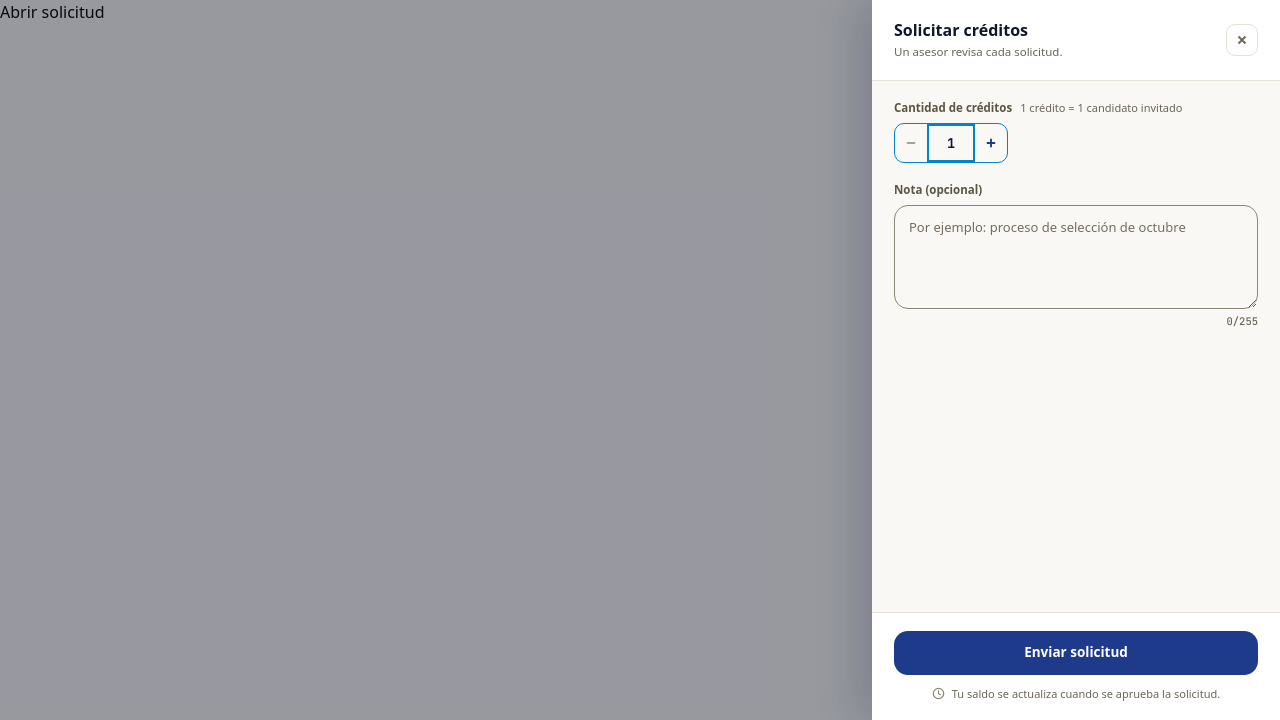
it: SolicitarCreditos · errores › un 422 sin errores de campo muestra el mensaje como aviso general
Step 1. Click the button "Enviar solicitud" → (1076, 652), box x1=894 y1=630 x2=1258 y2=674
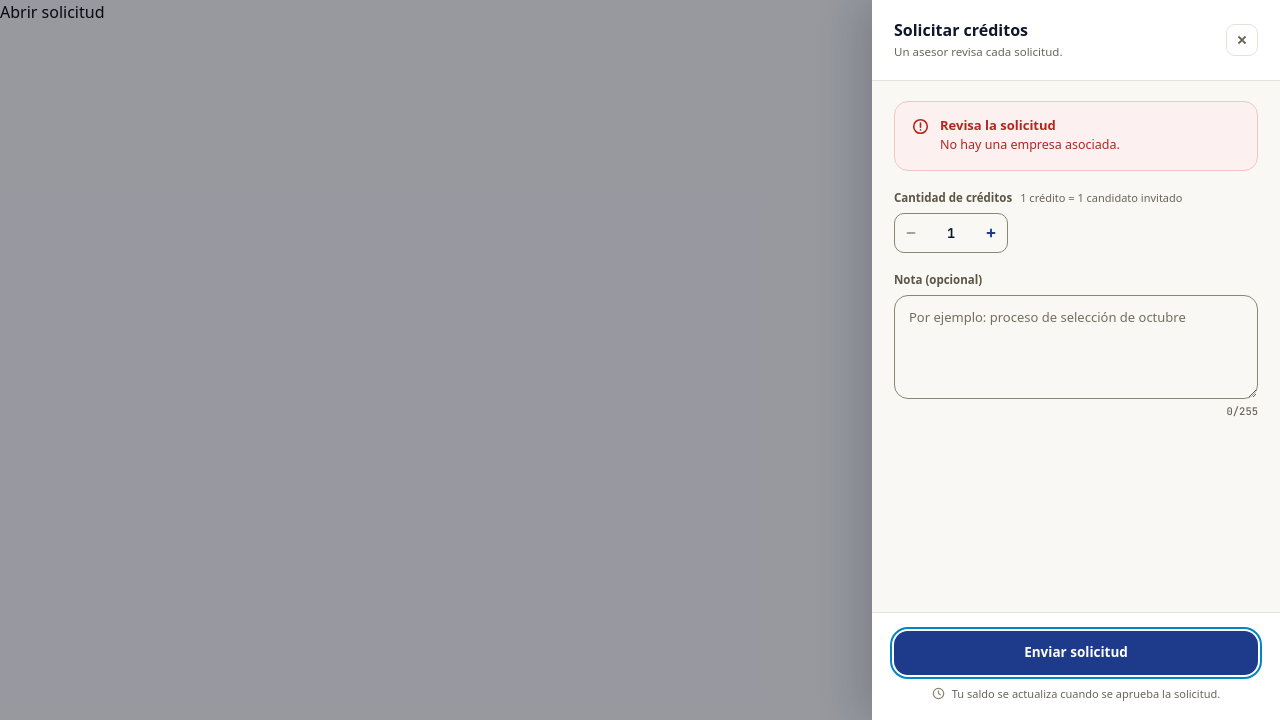
Check: the text "Revisa la solicitud" shows "No hay una empresa asociada.", box x1=940 y1=136 x2=1120 y2=153
